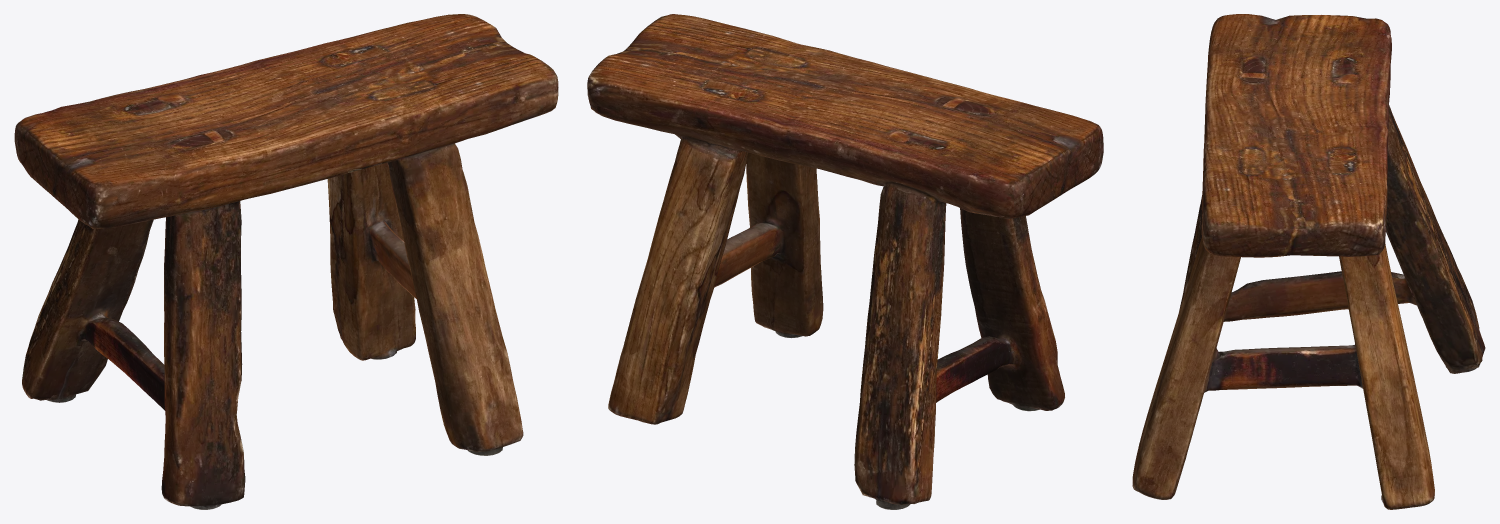
File: wooden_stool_02.glb
3 renders of one model, left to right at view 1: azimuth 30°, elevation 25°; view 2: azimuth 150°, elevation 25°; view 3: azimuth 270°, elevation 25°, orthographic. The views are drawn at different scales.
Visible parts, largest first — view 1: wooden_stool_02; view 2: wooden_stool_02; view 3: wooden_stool_02.
Part boxes in pixels (left/top/right/bottom): wooden_stool_02: left=14, top=14, right=558, bottom=509; wooden_stool_02: left=587, top=14, right=1103, bottom=509; wooden_stool_02: left=1132, top=14, right=1485, bottom=509.
Bounding box in the file's own units: 0.2652 × 0.1819 × 0.1831.
1 material, 1 textured.
